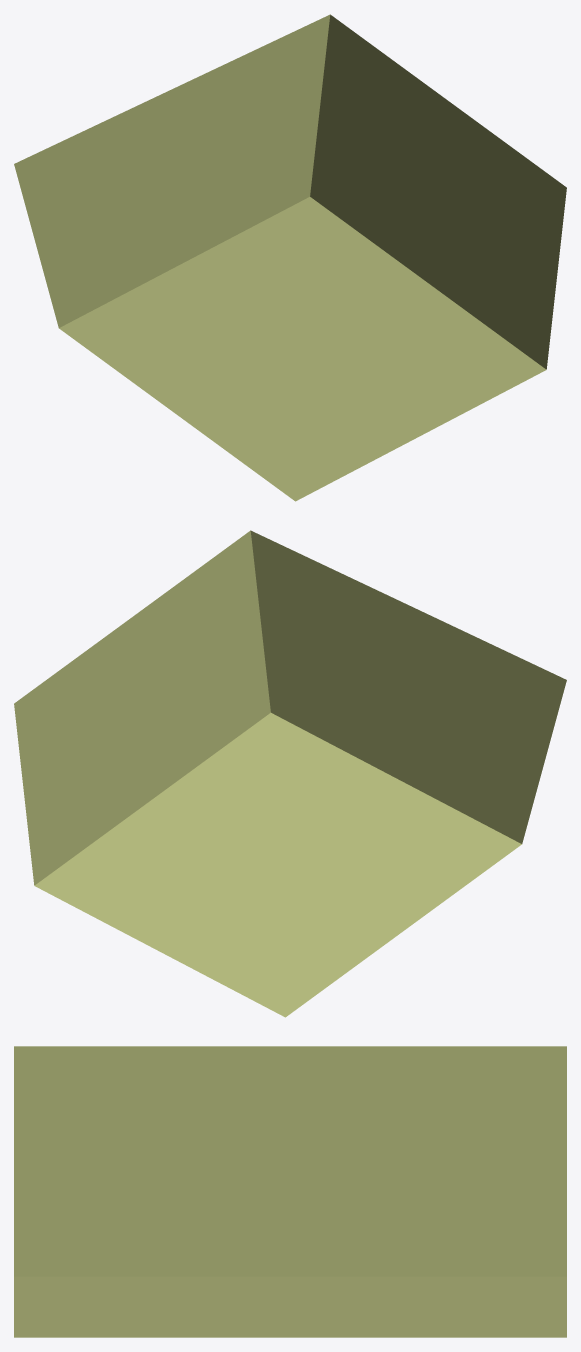
3 renders of one model, top to bottom at view 1: azimuth 30°, elevation 25°; view 2: azimuth 150°, elevation 25°; view 3: azimuth 270°, elevation 25°, orthographic. The views are drawn at different scales.
Parts seen in each view (by area): view 1: 0_0_1_1_3_1_2_0_2_2_3; view 2: 0_0_1_1_3_1_2_0_2_2_3; view 3: 0_0_1_1_3_1_2_0_2_2_3.
Part boxes in pixels (box(x1,y1,x2,y2)): 0_0_1_1_3_1_2_0_2_2_3: box(14, 14, 566, 501); 0_0_1_1_3_1_2_0_2_2_3: box(14, 530, 566, 1017); 0_0_1_1_3_1_2_0_2_2_3: box(14, 1046, 566, 1337).
Size of the model in its own units: 6.94 by 5.2 by 9.
